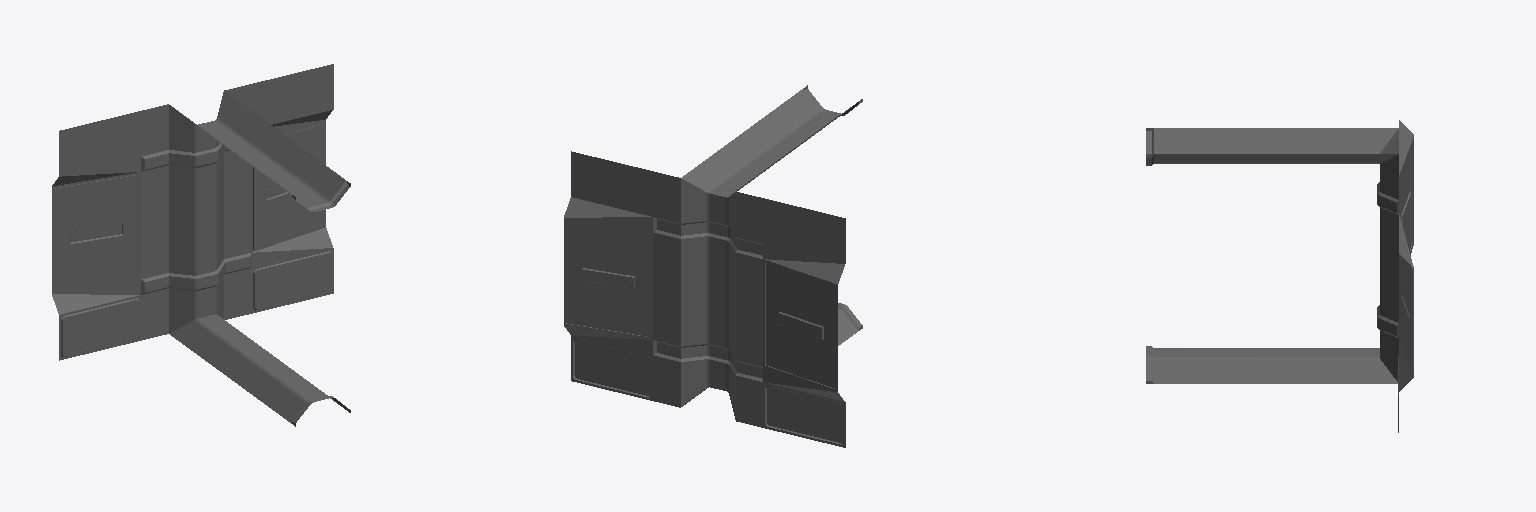
File: LongWall01_HP.obj
3 renders of one model, left to right at view 1: azimuth 30°, elevation 25°; view 2: azimuth 150°, elevation 25°; view 3: azimuth 270°, elevation 25°, orthographic.
Visible parts, largest first — view 1: Box001; view 2: Box001; view 3: Box001.
Boxes of the visible parts, x1,y1,x2,y2 form: Box001: [52, 64, 350, 426]; Box001: [564, 85, 862, 447]; Box001: [1146, 120, 1413, 432].
Size of the model in its own units: 640 by 512 by 542.